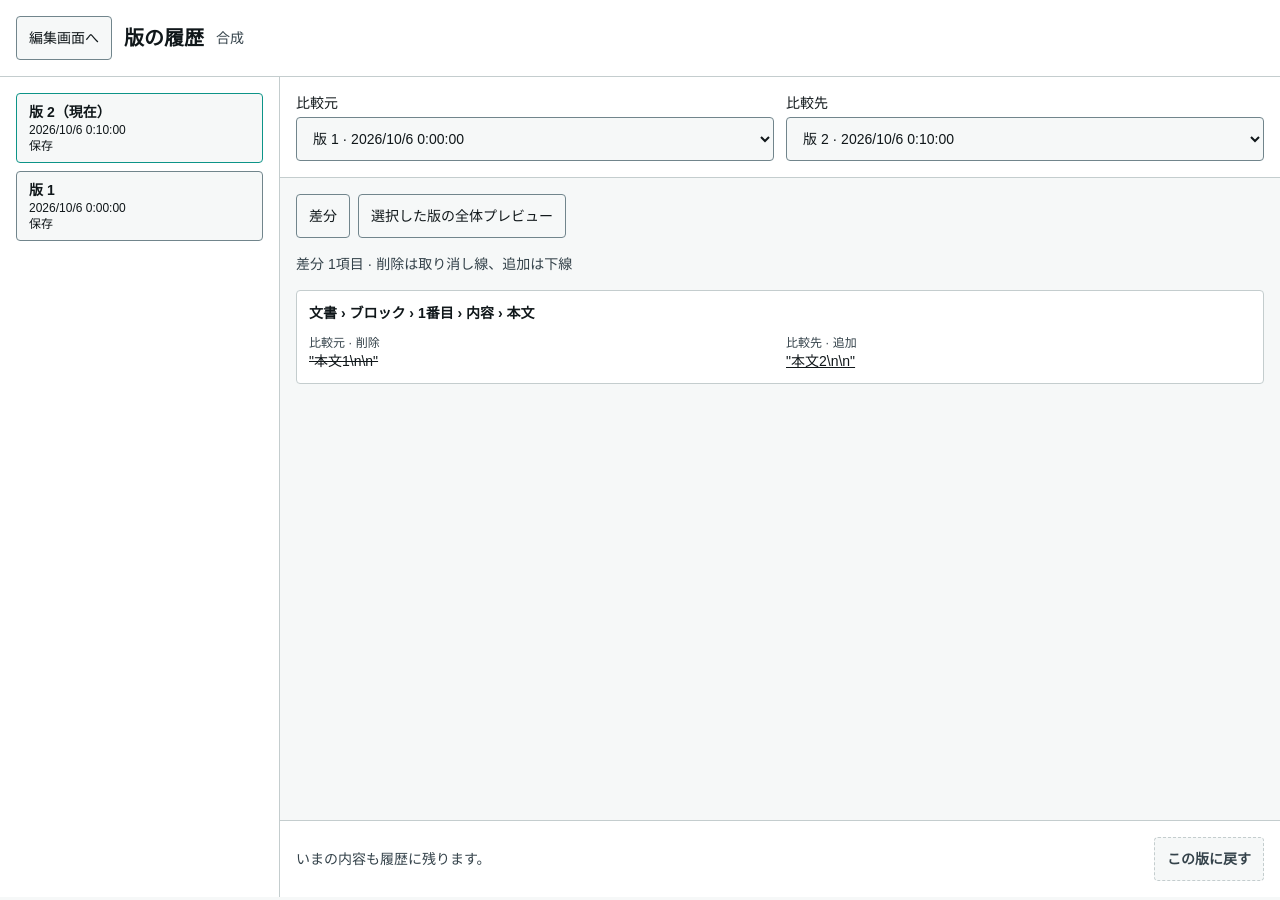
Scenario: シート全体の版の履歴 › 旧版の行選択では現在版との差分へ切り替え、任意比較selectも維持する
Step 1. Click the button "版 1 2026/10/6 0:00:00 保存" → {"x": 140, "y": 206}, box left=16, top=171, right=263, bottom=241
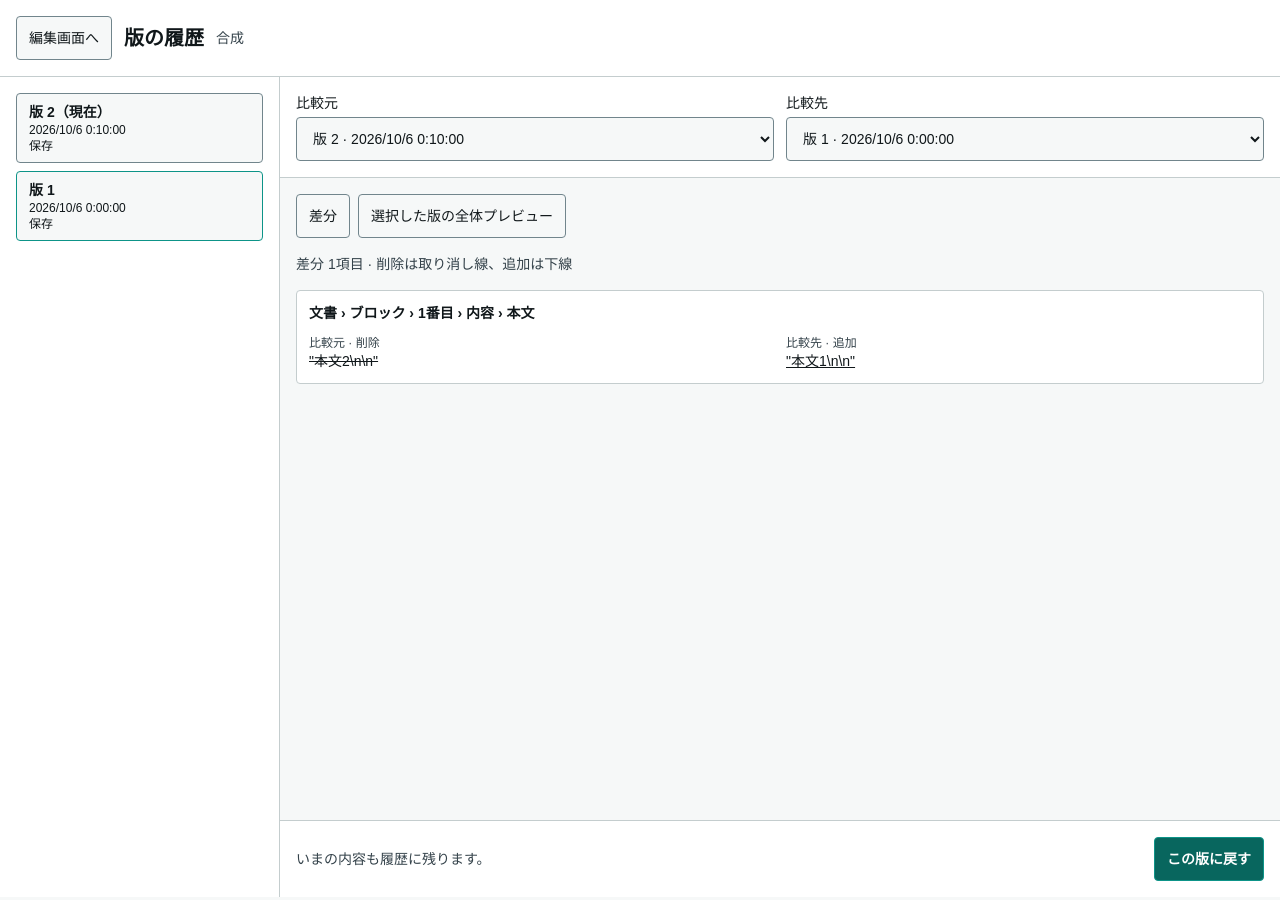
Expected: the button "この版に戻す" is enabled, left=1154, top=837, right=1264, bottom=881
Expected: the dropdown labelled "比較元" shows "版 2 · 2026/10/6 0:10:00"
Expected: the dropdown labelled "比較先" shows "版 1 · 2026/10/6 0:00:00", left=786, top=117, right=1264, bottom=161
Step 2. Select "版 1 · 2026/10/6 0:00:00" in the dropdown labelled "比較元" → {"x": 535, "y": 139}, box left=296, top=117, right=774, bottom=161
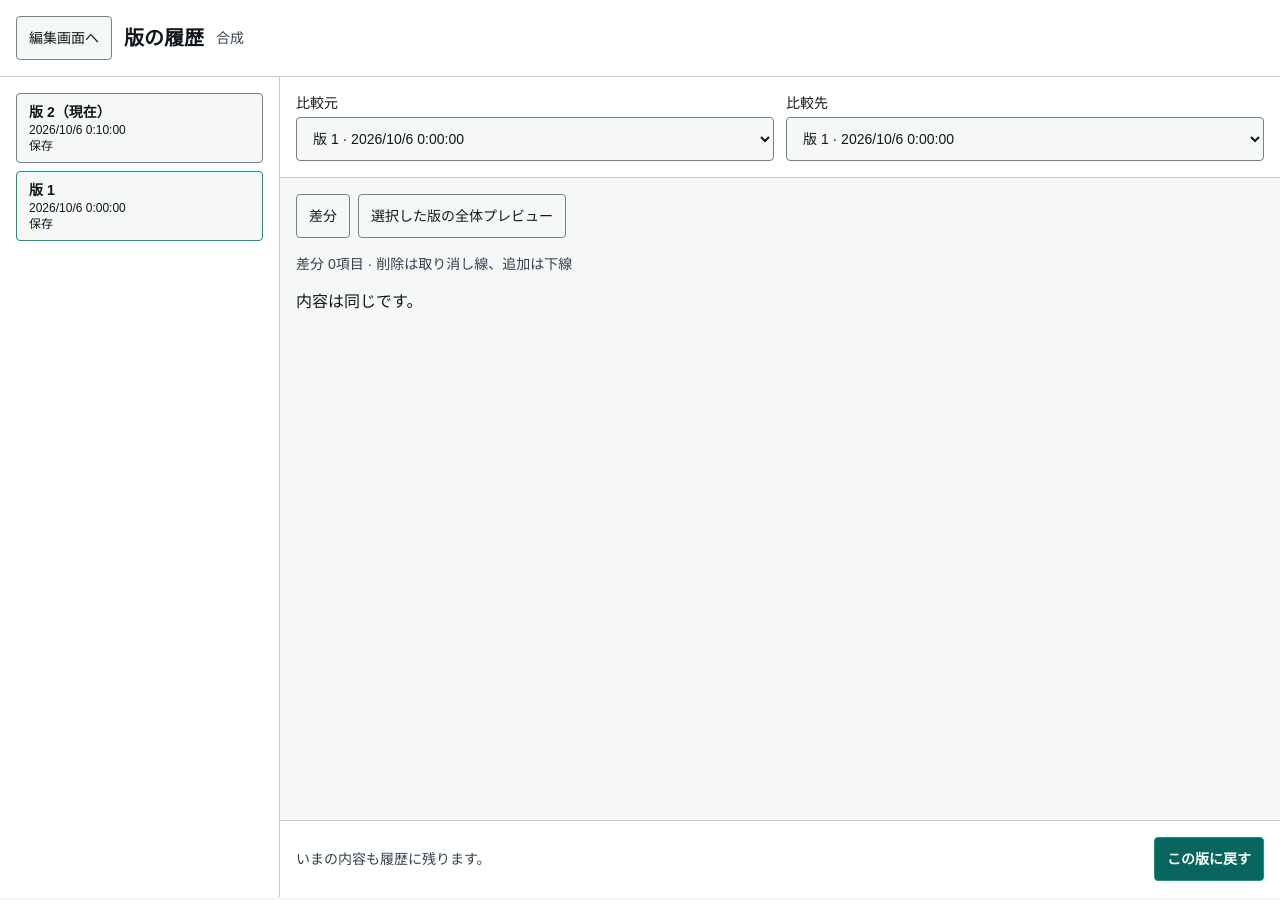
Expected: the text "内容は同じです。" is shown, left=296, top=293, right=422, bottom=310
